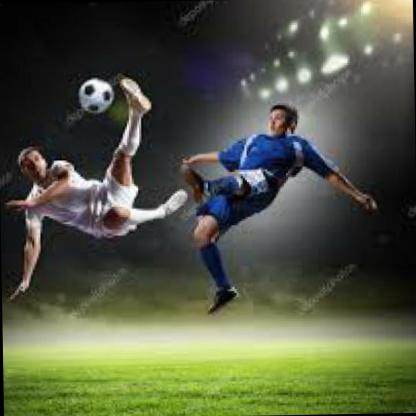ball: (75, 75, 116, 118)
